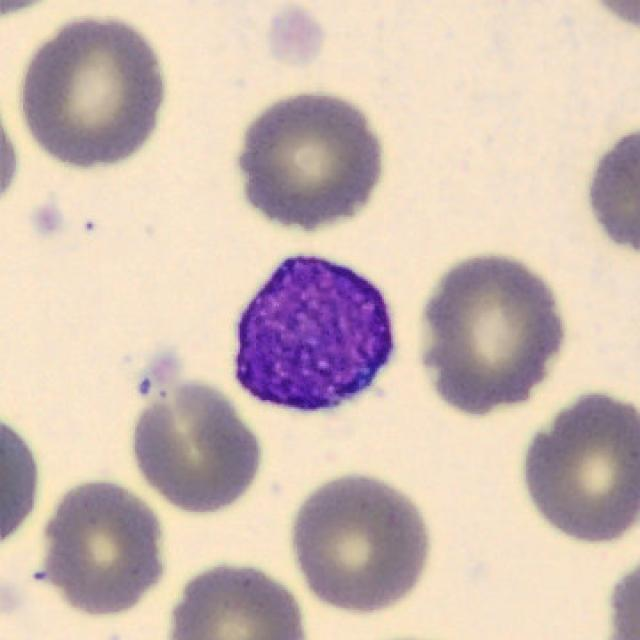Linfocito: (235, 256, 395, 414)
